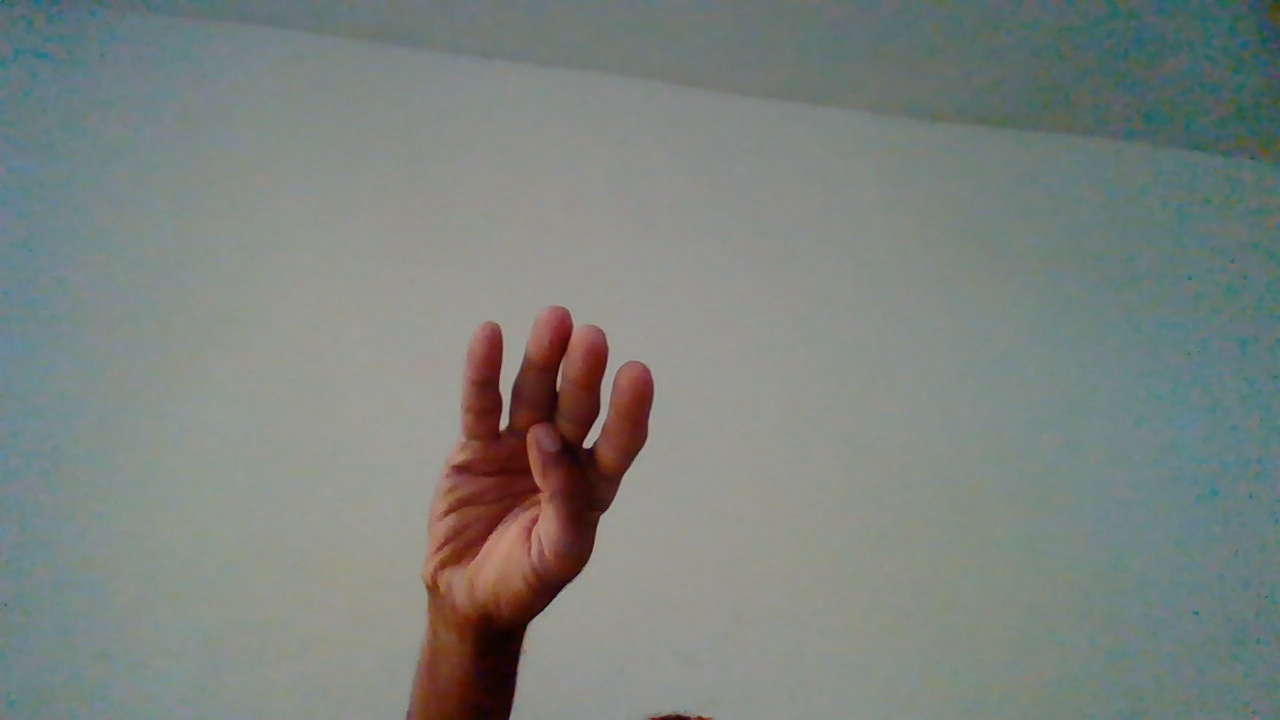me: (419, 304, 666, 720)
